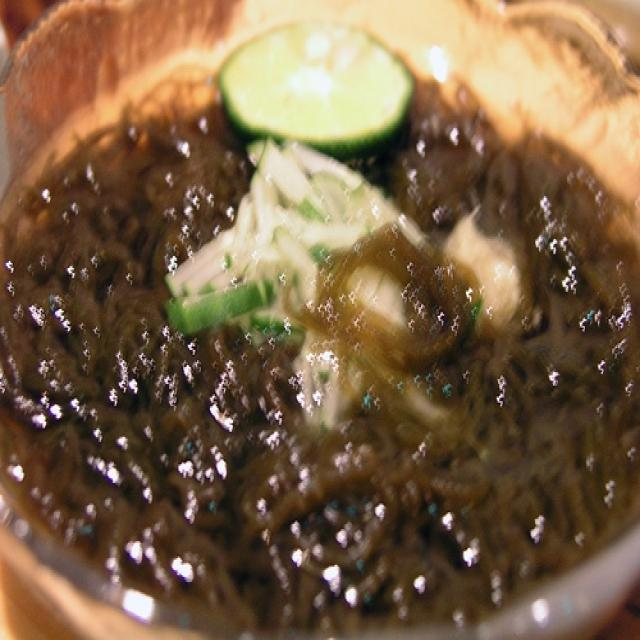蔬菜料理: (26, 42, 624, 618)
